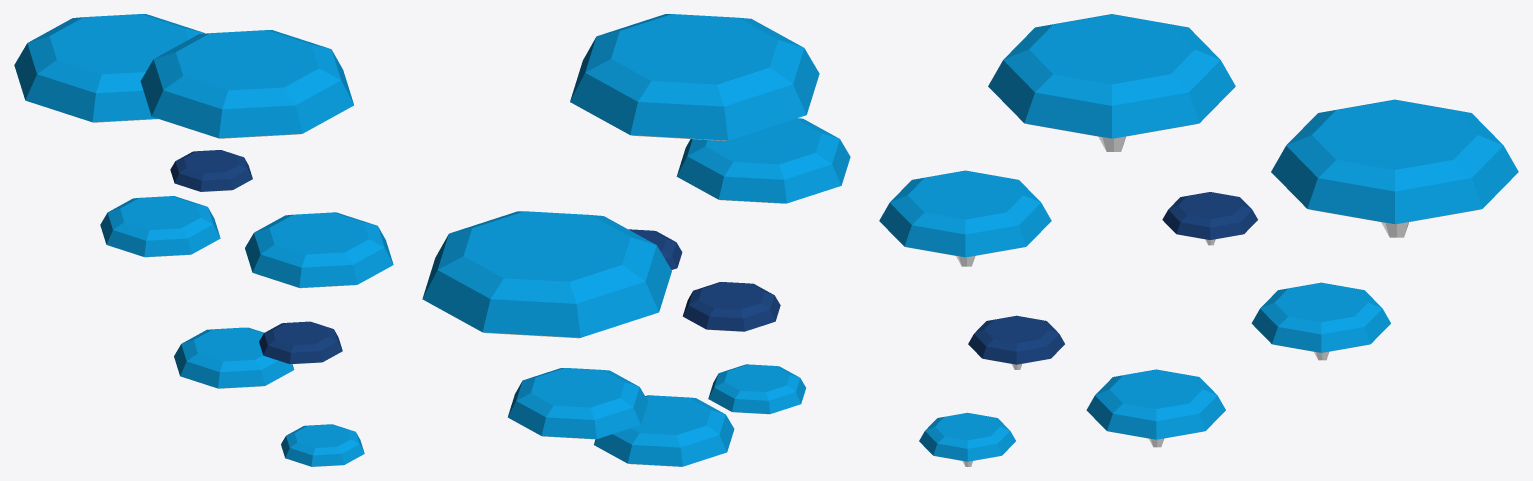
Rendered from Garden_WallShroom06.fbx.
The picture shows the model from 3 angles, left to right: view 1: azimuth 30°, elevation 25°; view 2: azimuth 150°, elevation 25°; view 3: azimuth 270°, elevation 25°; orthographic projection. The views are drawn at different scales.
Parts seen in each view (by area): view 1: Cylinder.184; view 2: Cylinder.184; view 3: Cylinder.184.
Part boxes in pixels (x1,y1,x2,y2): Cylinder.184: (14, 14, 393, 466); Cylinder.184: (422, 14, 850, 466); Cylinder.184: (879, 14, 1518, 466).
Size of the model in its own units: 42.11 by 75.42 by 109.
